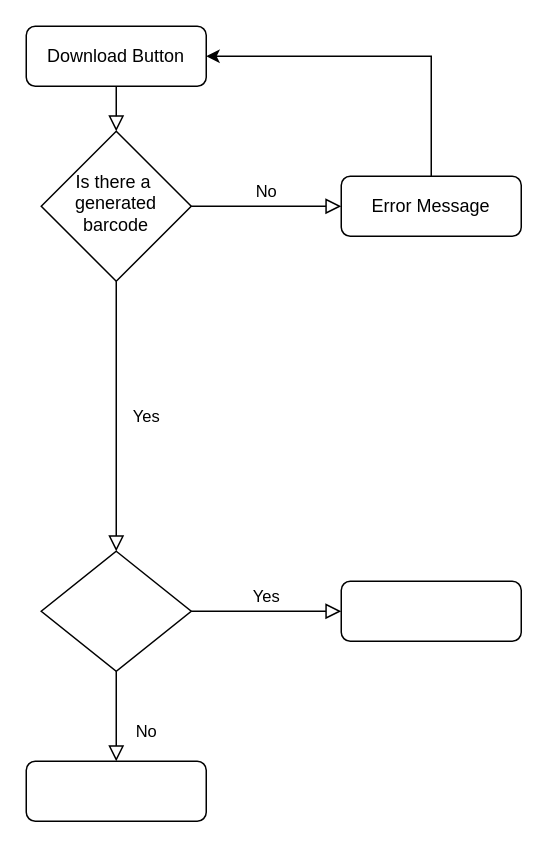
This 548x848 diagram has some shape labels left out. Here are the shapes that lost their labels. From the top down, the centre of each, then its label:
(x=430, y=610): Replace Bulb
(x=115, y=790): Repair Lamp
